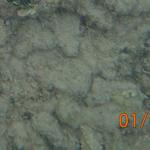dead: (6, 6, 112, 139)
